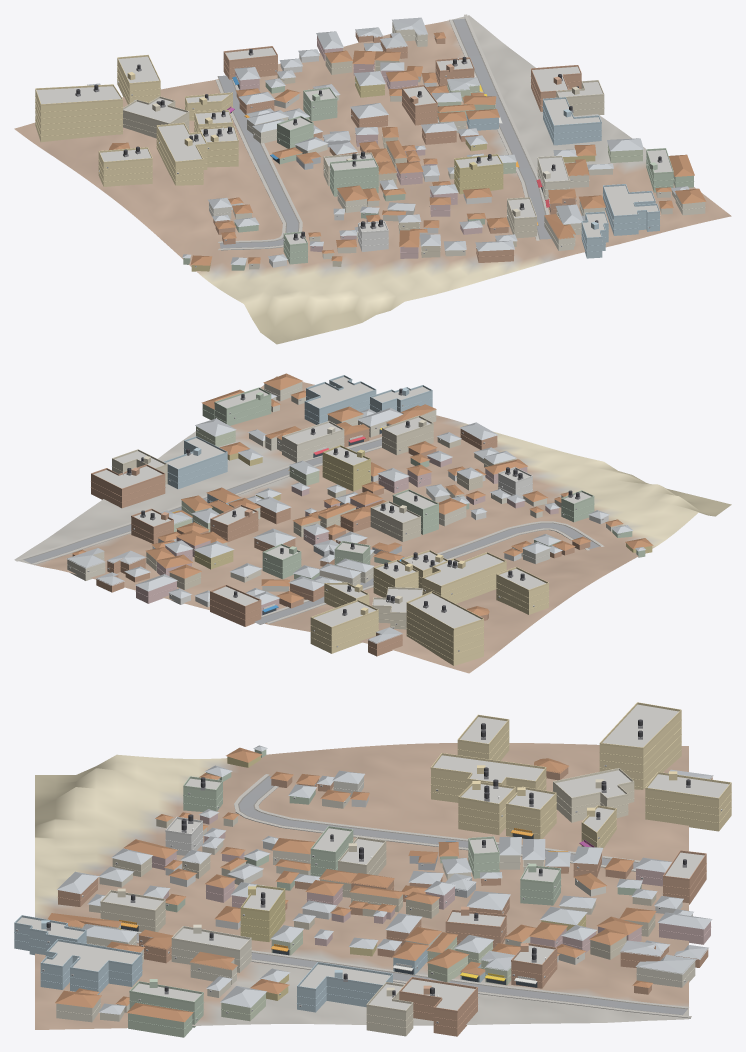
3 renders of one model, top to bottom at view 1: azimuth 30°, elevation 25°; view 2: azimuth 150°, elevation 25°; view 3: azimuth 270°, elevation 25°, orthographic. The views are drawn at different scales.
Parts seen in each view (by area): view 1: Buildings-col, Terrain-col, Details, Roads-col, Sidewalks-col; view 2: Buildings-col, Terrain-col, Details, Roads-col, Sidewalks-col; view 3: Buildings-col, Terrain-col, Details, Roads-col, Sidewalks-col.
Part boxes in pixels (x1,y1,x2,y2): Buildings-col: (35, 17, 706, 271); Terrain-col: (14, 15, 731, 344); Details: (35, 24, 705, 267); Roads-col: (217, 18, 551, 248); Sidewalks-col: (215, 14, 549, 250); Buildings-col: (66, 373, 653, 665); Terrain-col: (14, 376, 731, 673); Details: (67, 375, 620, 660); Roads-col: (23, 439, 599, 624); Sidewalks-col: (15, 437, 604, 623); Buildings-col: (14, 704, 731, 1037); Terrain-col: (35, 743, 688, 1029); Details: (14, 702, 731, 1029); Roads-col: (136, 776, 687, 1015); Sidewalks-col: (122, 774, 691, 1018).
Size of the model in its own units: 268 by 35.53 by 281.
